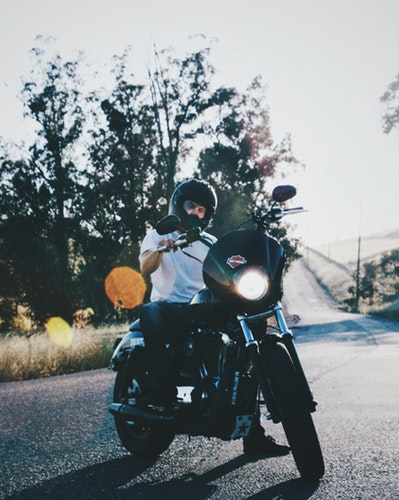helmet: (167, 172, 226, 226)
